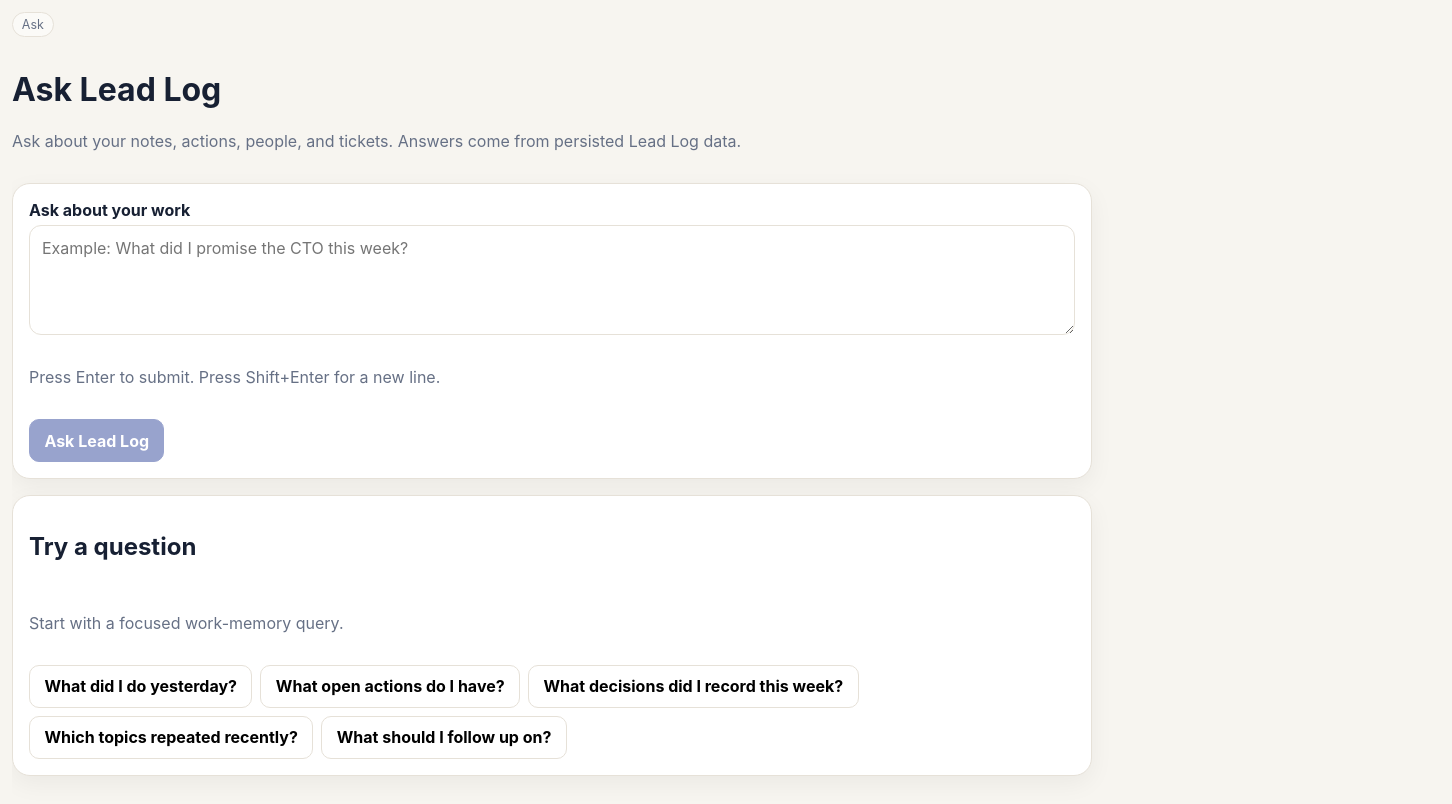
Test: AskPage › renders insufficient context from an empty sources array without crashing
Type "Unknown topic" into the text box labelled "Ask about your work". click: (552, 280)
box: [29,225,1075,335]
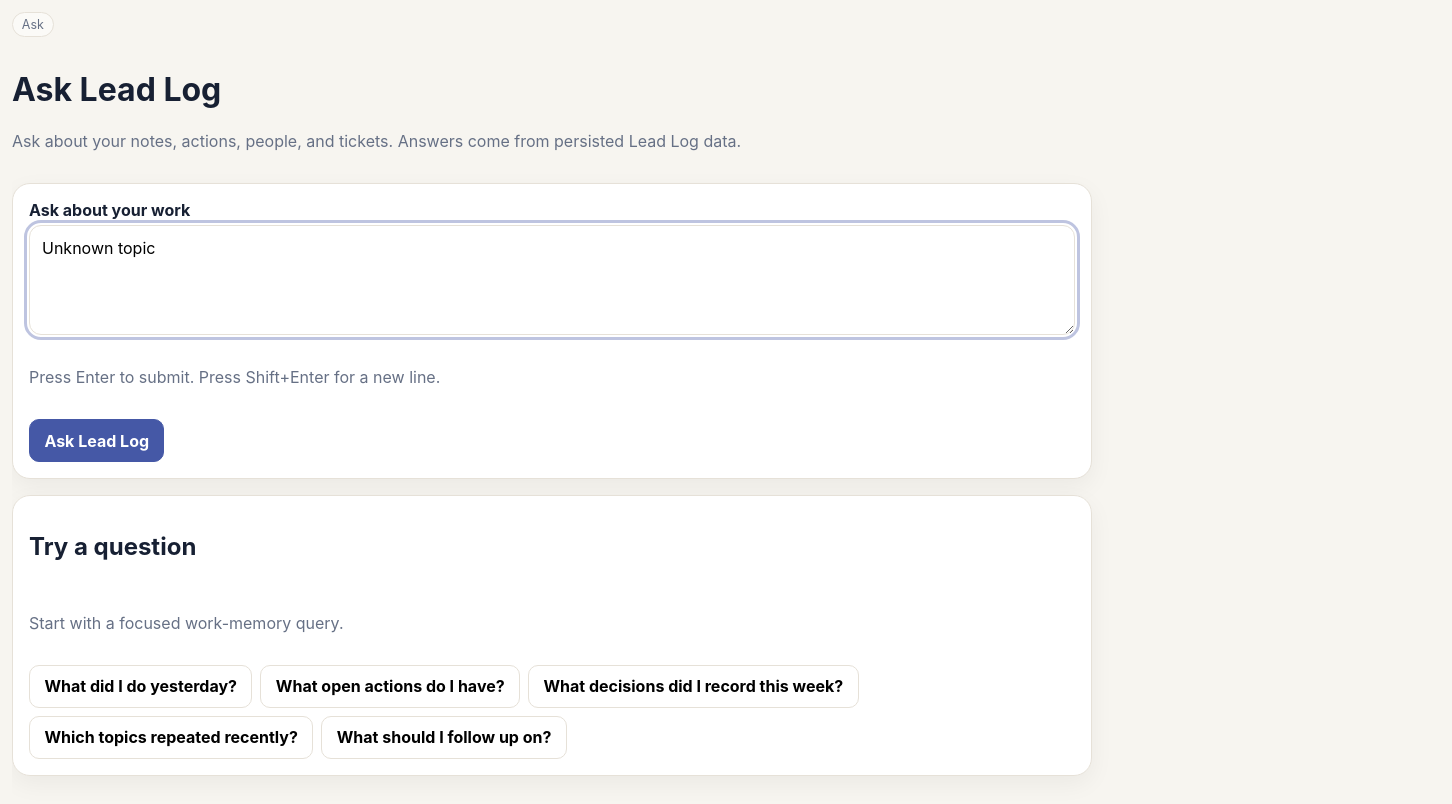
Click the button "Ask Lead Log". click: (97, 441)
box: [29,419,164,462]
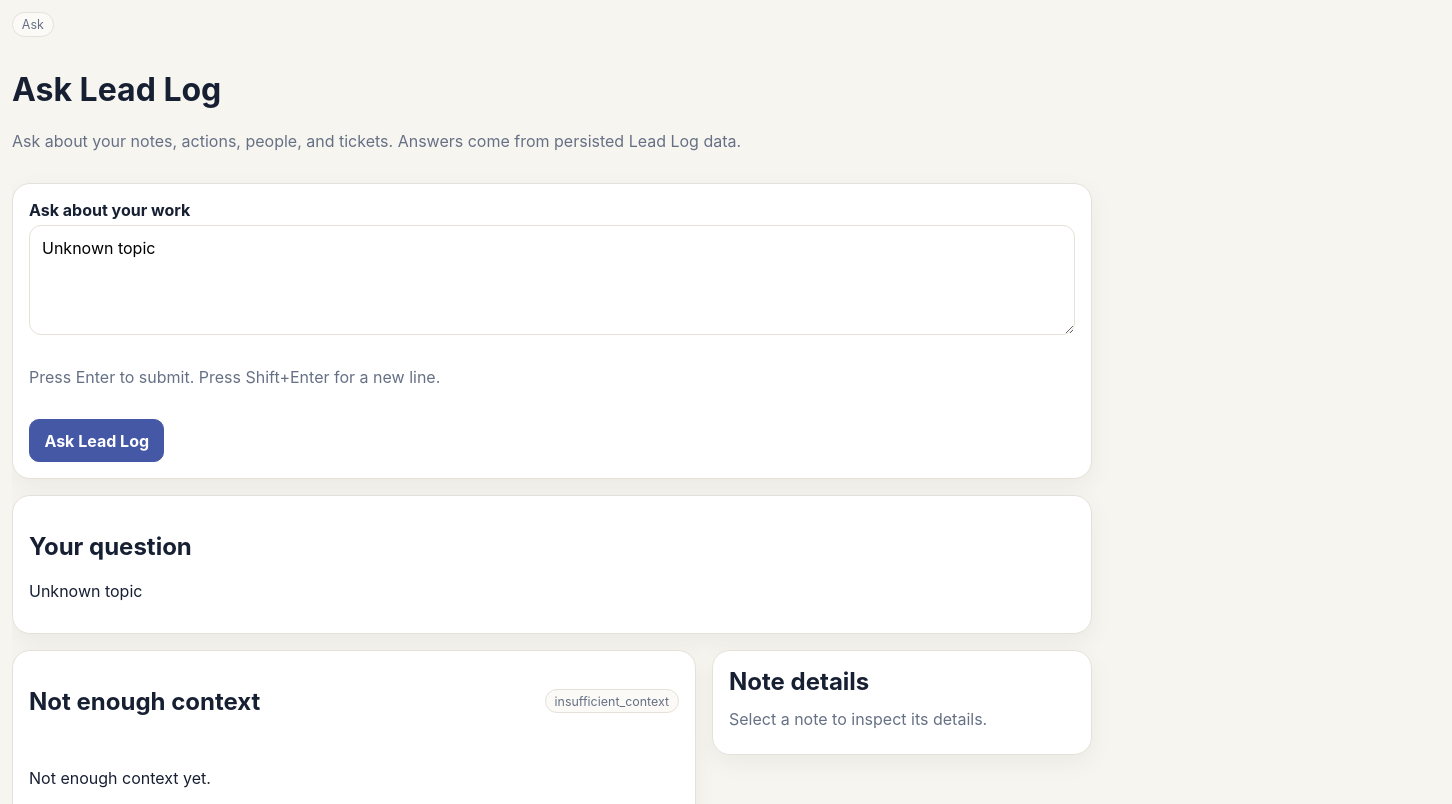
Now the heading "Not enough context" is shown, box [29,687,260,716]
Now the text "Not enough context yet." is shown, box [29,768,211,788]
